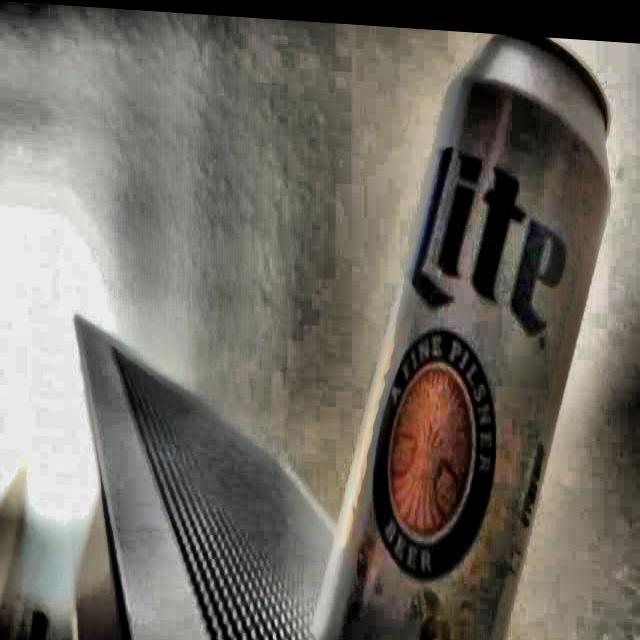Aluminum Can: (290, 15, 622, 640)
